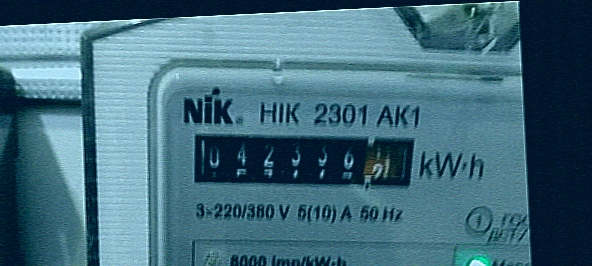0: (204, 143, 218, 173)
2: (256, 143, 275, 170)
3: (283, 141, 300, 171), (312, 141, 327, 170)
4: (230, 143, 247, 171)
6: (337, 146, 354, 173)
screen: (178, 117, 422, 209)
